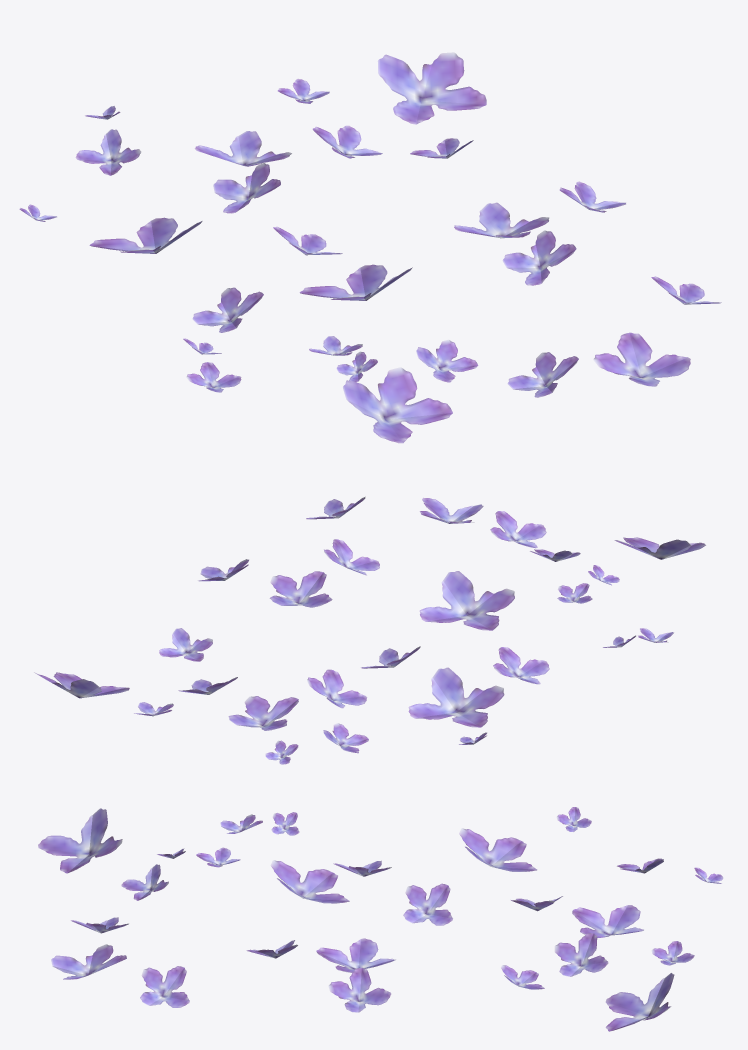
Rendered from Flower_008.fbx.
3 renders of one model, top to bottom at view 1: azimuth 30°, elevation 25°; view 2: azimuth 150°, elevation 25°; view 3: azimuth 270°, elevation 25°, orthographic. The views are drawn at different scales.
Parts seen in each view (by area): view 1: FlowerPatch_008; view 2: FlowerPatch_008; view 3: FlowerPatch_008.
Part boxes in pixels (x1=…): FlowerPatch_008: x1=19, y1=52, x2=721, y2=443; FlowerPatch_008: x1=34, y1=496, x2=705, y2=764; FlowerPatch_008: x1=38, y1=807, x2=723, y2=1031.
Bounding box in the file's own units: 108 × 15.63 × 144.
